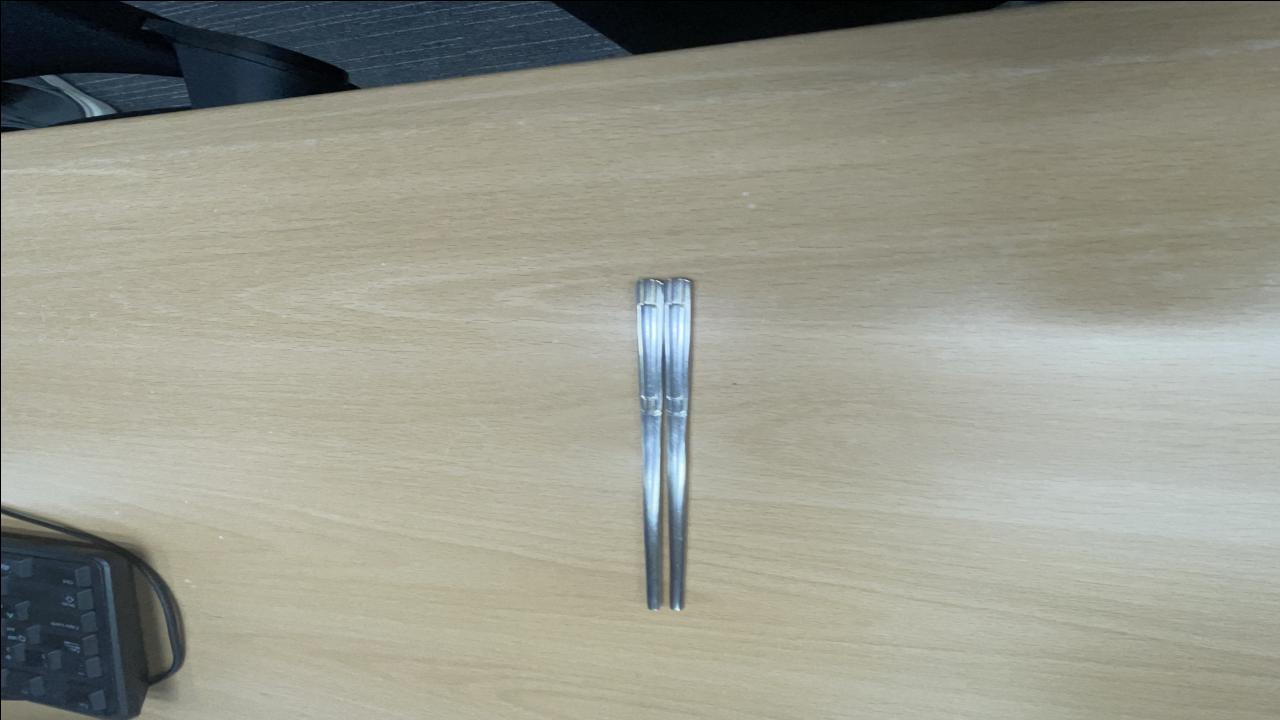chopstick: (628, 271, 700, 613)
